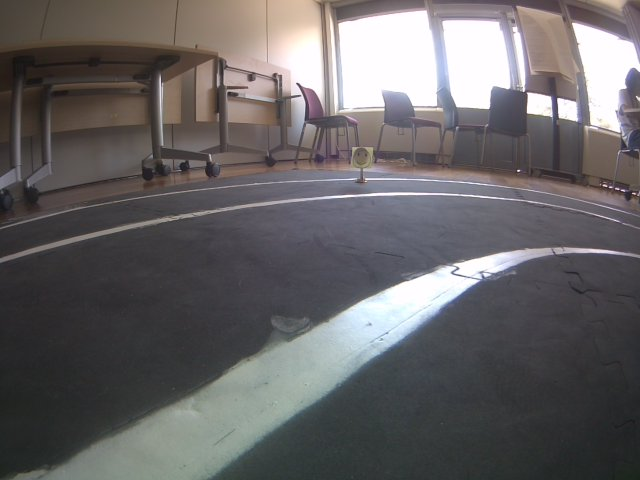Smiley: (347, 145, 374, 170)
